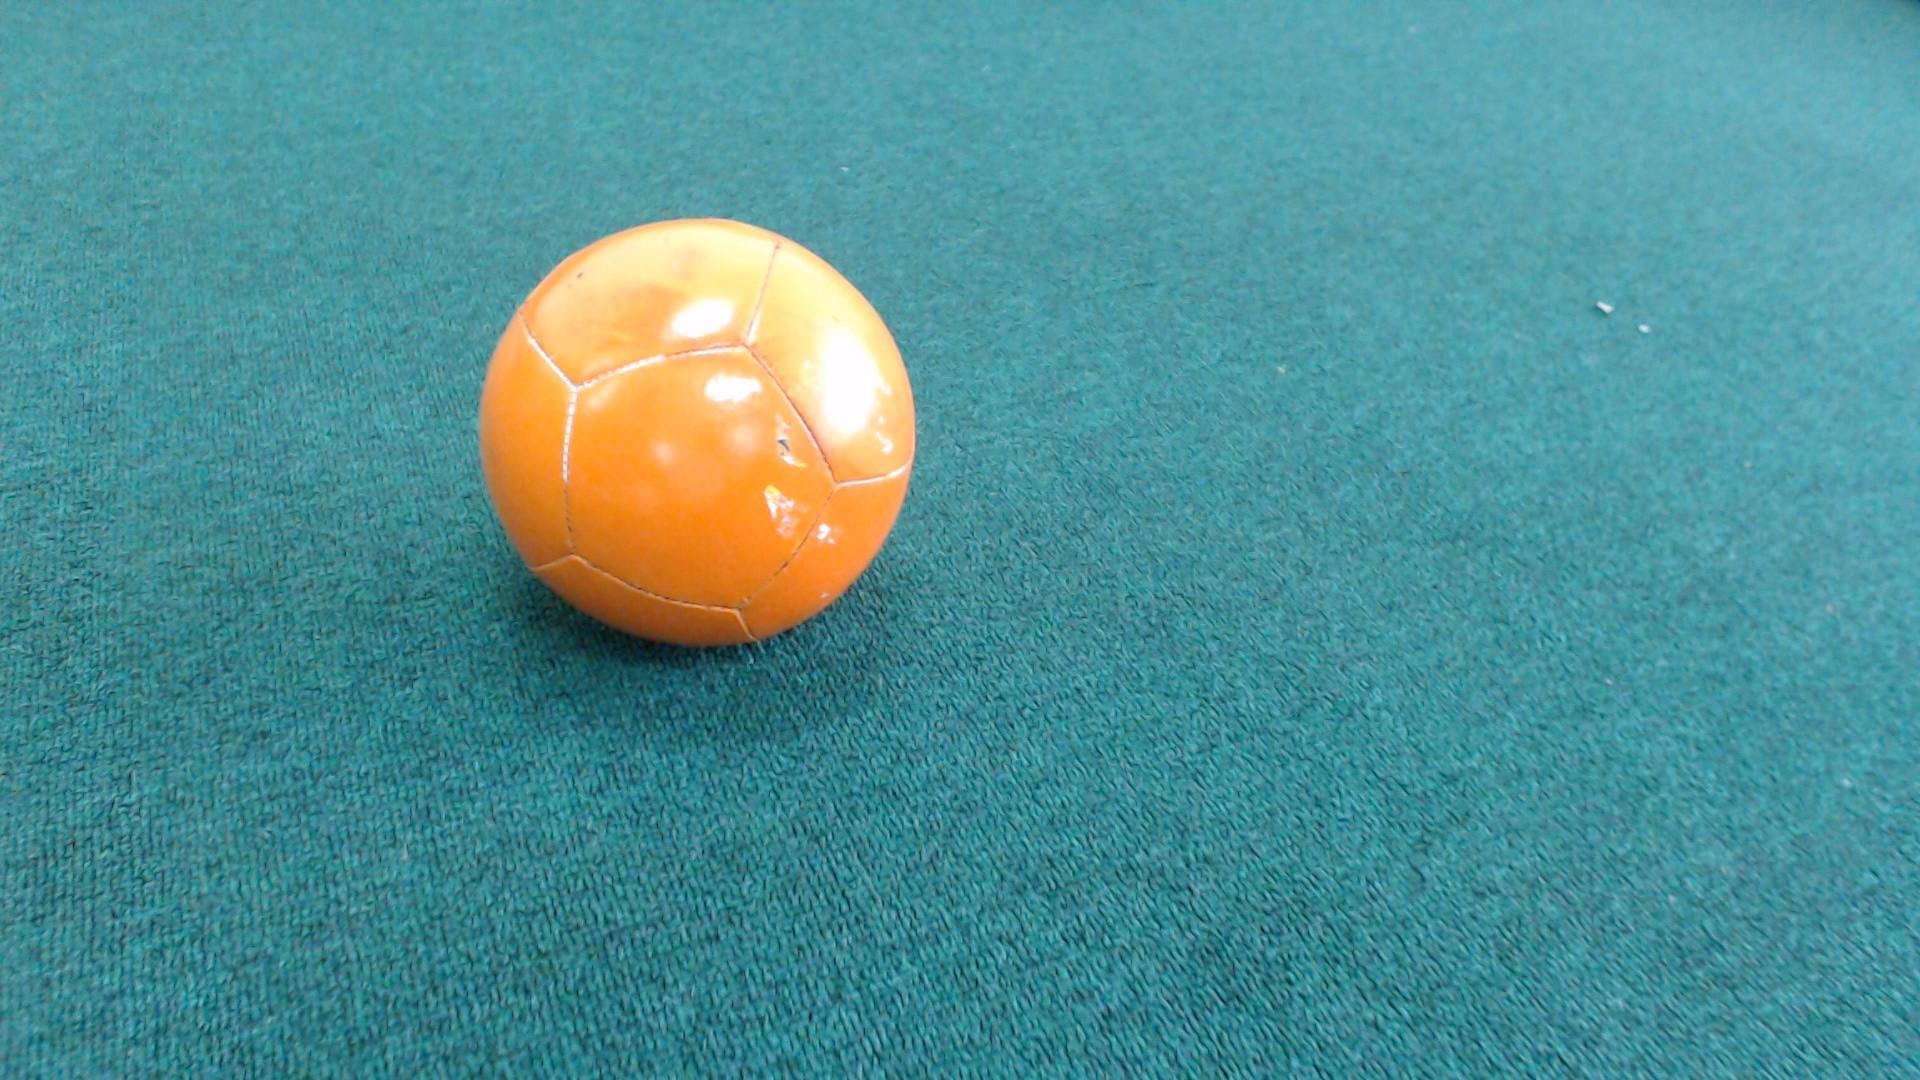bola: (448, 179, 945, 688)
